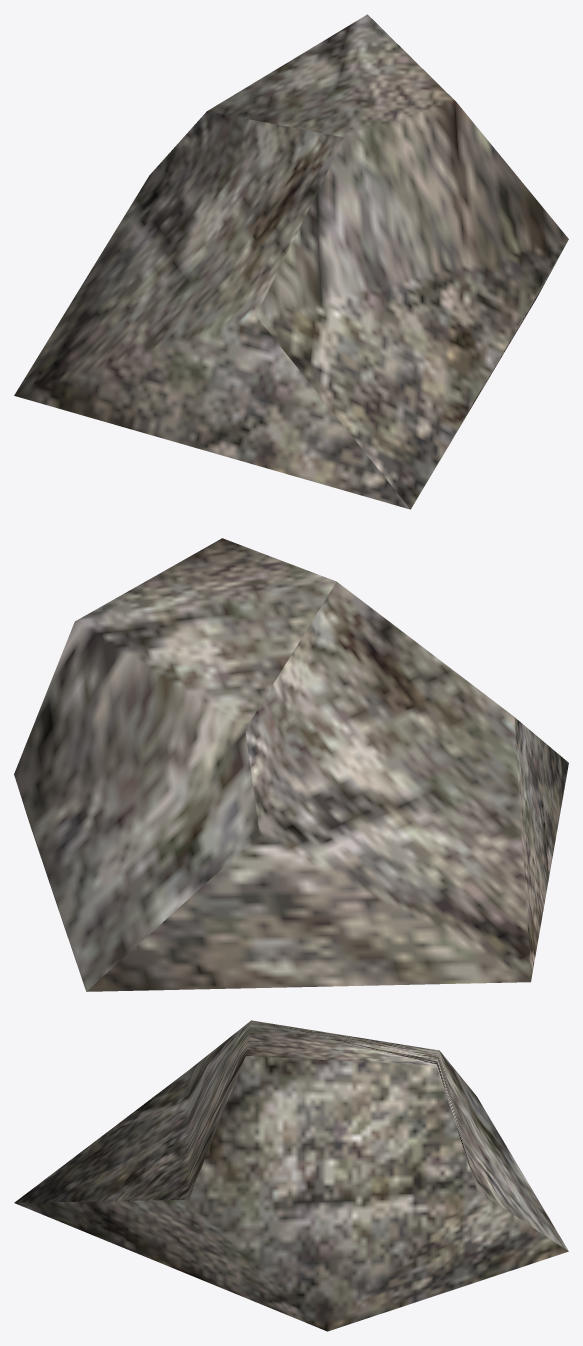
File: general_obj_pieceofstone02.glb
3 views of the same model, one above another, from view 1: azimuth 30°, elevation 25°; view 2: azimuth 150°, elevation 25°; view 3: azimuth 270°, elevation 25° (orthographic). The views are drawn at different scales.
Parts seen in each view (by area): view 1: Object03; view 2: Object03; view 3: Object03.
Boxes of the visible parts, x1=… form: Object03: x1=14, y1=14, x2=568, y2=509; Object03: x1=14, y1=538, x2=568, y2=991; Object03: x1=14, y1=1020, x2=568, y2=1331.
Size of the model in its own units: 0.385 by 0.1965 by 0.4439.
1 material, 1 textured.
